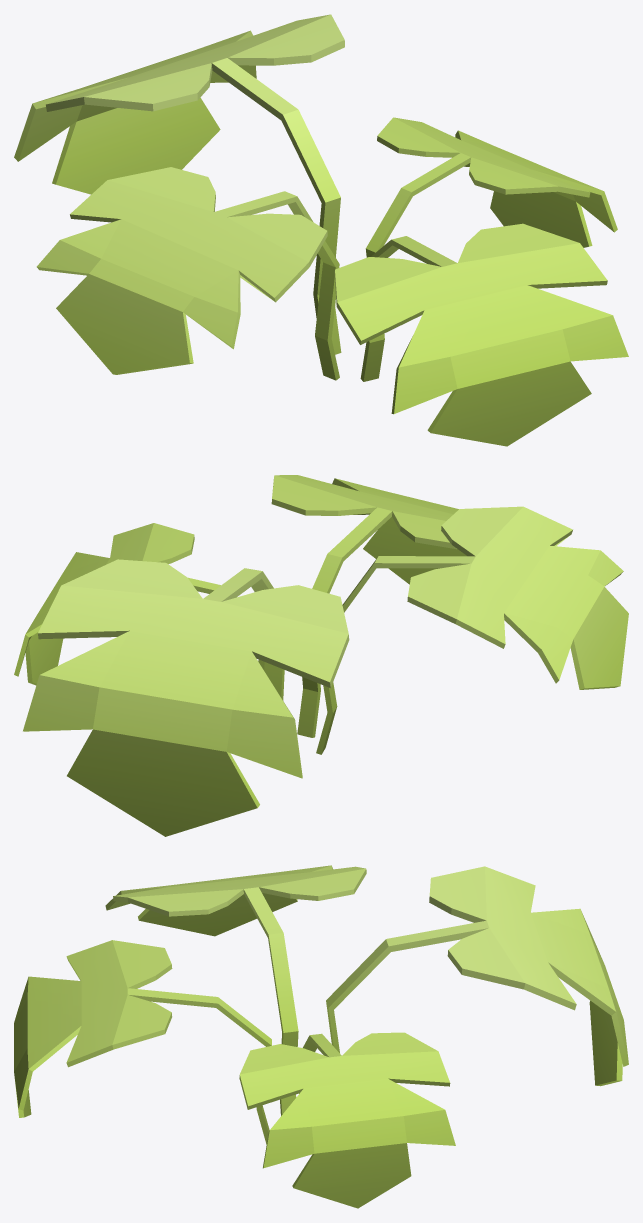
File: Plant4.fbx
3 views of the same model, one above another, from view 1: azimuth 30°, elevation 25°; view 2: azimuth 150°, elevation 25°; view 3: azimuth 270°, elevation 25° (orthographic). The views are drawn at different scales.
Visible parts, largest first — view 1: Plant_4_Plane.006; view 2: Plant_4_Plane.006; view 3: Plant_4_Plane.006.
Part boxes in pixels (left/top/right/bottom): Plant_4_Plane.006: left=14, top=14, right=628, bottom=446; Plant_4_Plane.006: left=14, top=475, right=628, bottom=836; Plant_4_Plane.006: left=14, top=865, right=628, bottom=1208.
Bounding box in the file's own units: 191 × 81.09 × 212.
